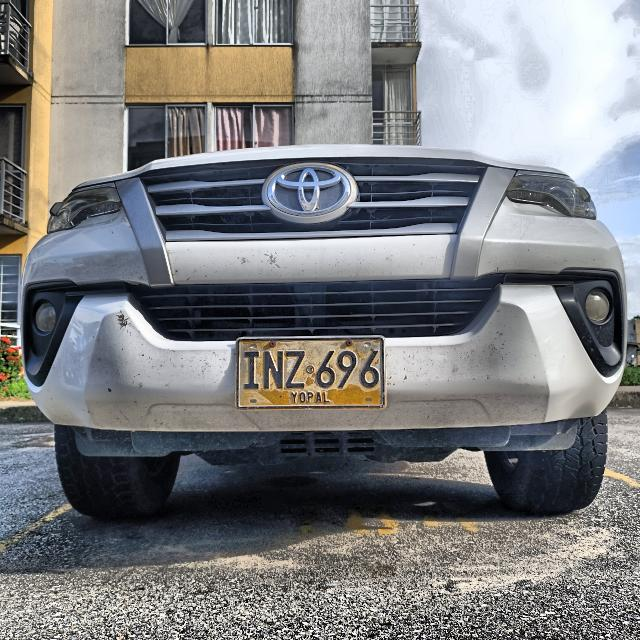plate: (238, 337, 385, 408)
